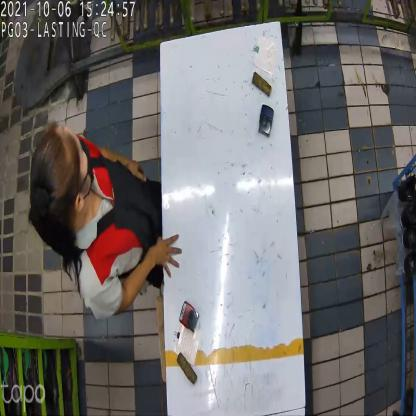stamp: (179, 300, 200, 340), (256, 102, 277, 138)
